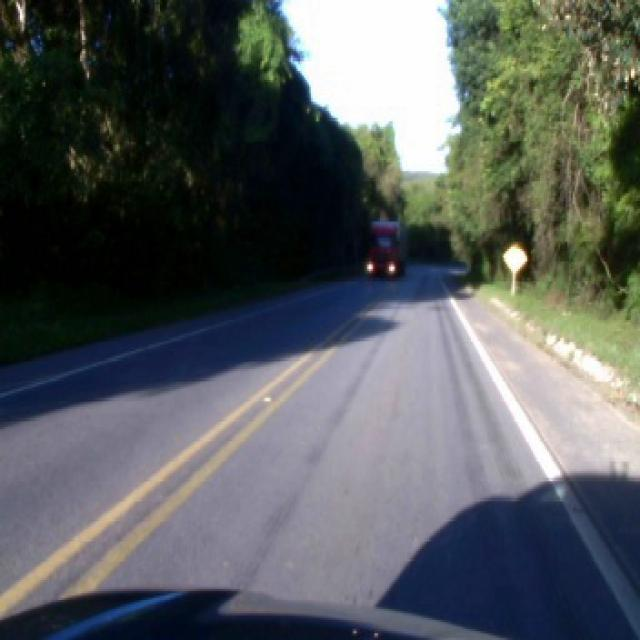Poth-hole: (262, 393, 271, 400)
